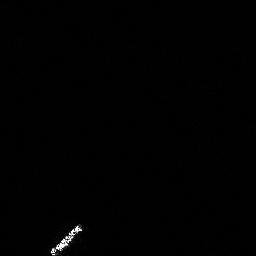ship: (50, 224, 82, 256)
